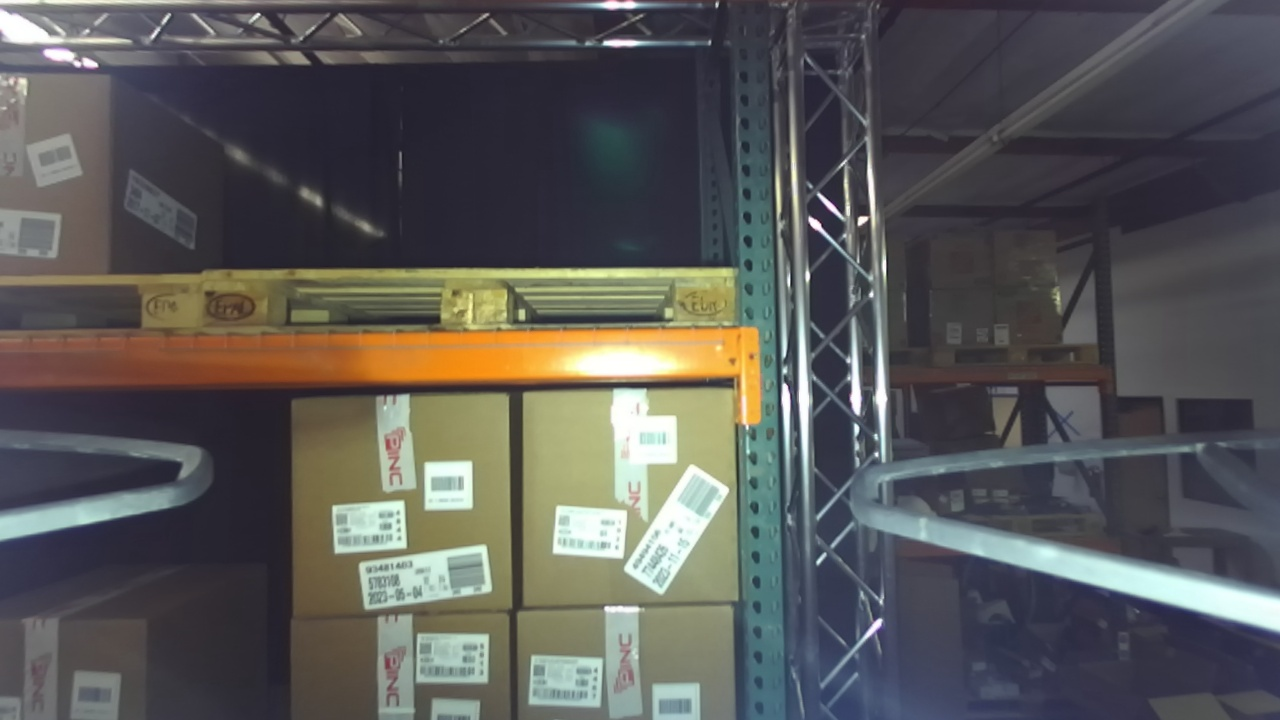box: (271, 370, 554, 643), (487, 350, 765, 626)
